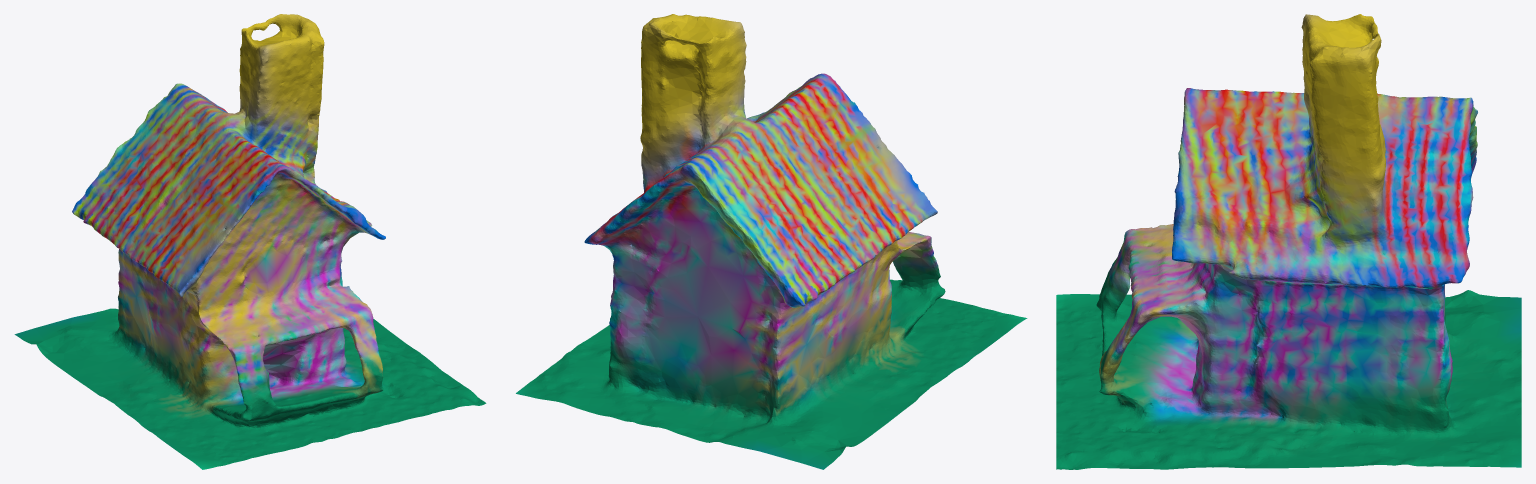
Rendered from color_191529_fmt2_2.glb.
The picture shows the model from 3 angles, left to right: view 1: azimuth 30°, elevation 25°; view 2: azimuth 150°, elevation 25°; view 3: azimuth 270°, elevation 25°; orthographic projection. The views are drawn at different scales.
Visible parts, largest first — view 1: house2; view 2: house2; view 3: house2.
Part boxes in pixels (x1,y1,x2,y2): house2: (14, 14, 486, 469); house2: (516, 14, 1027, 469); house2: (1056, 14, 1521, 469).
Size of the model in its own units: 5.85 by 6.18 by 6.71.
